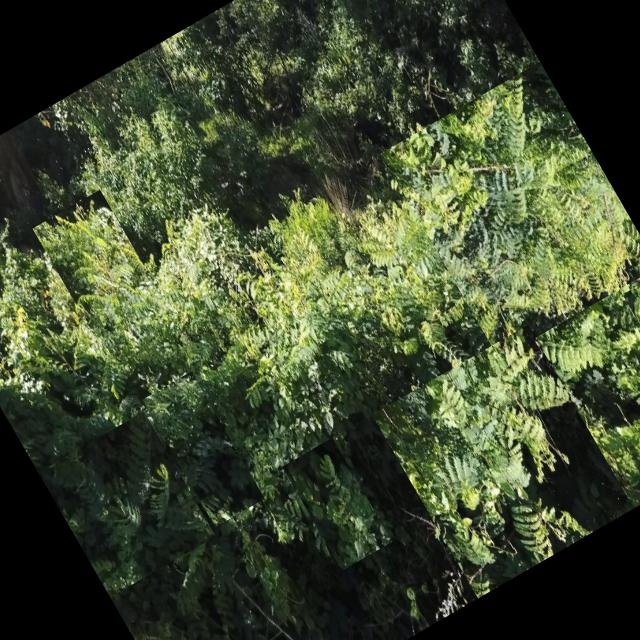Mysore-Thorn-Weed: (380, 61, 640, 358), (372, 324, 634, 598), (190, 217, 448, 459), (38, 411, 216, 597), (32, 190, 182, 369), (142, 372, 265, 526), (282, 438, 392, 570), (622, 272, 640, 357)
